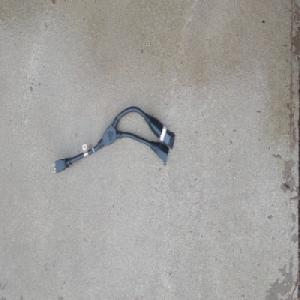Wire: (50, 105, 175, 176)
